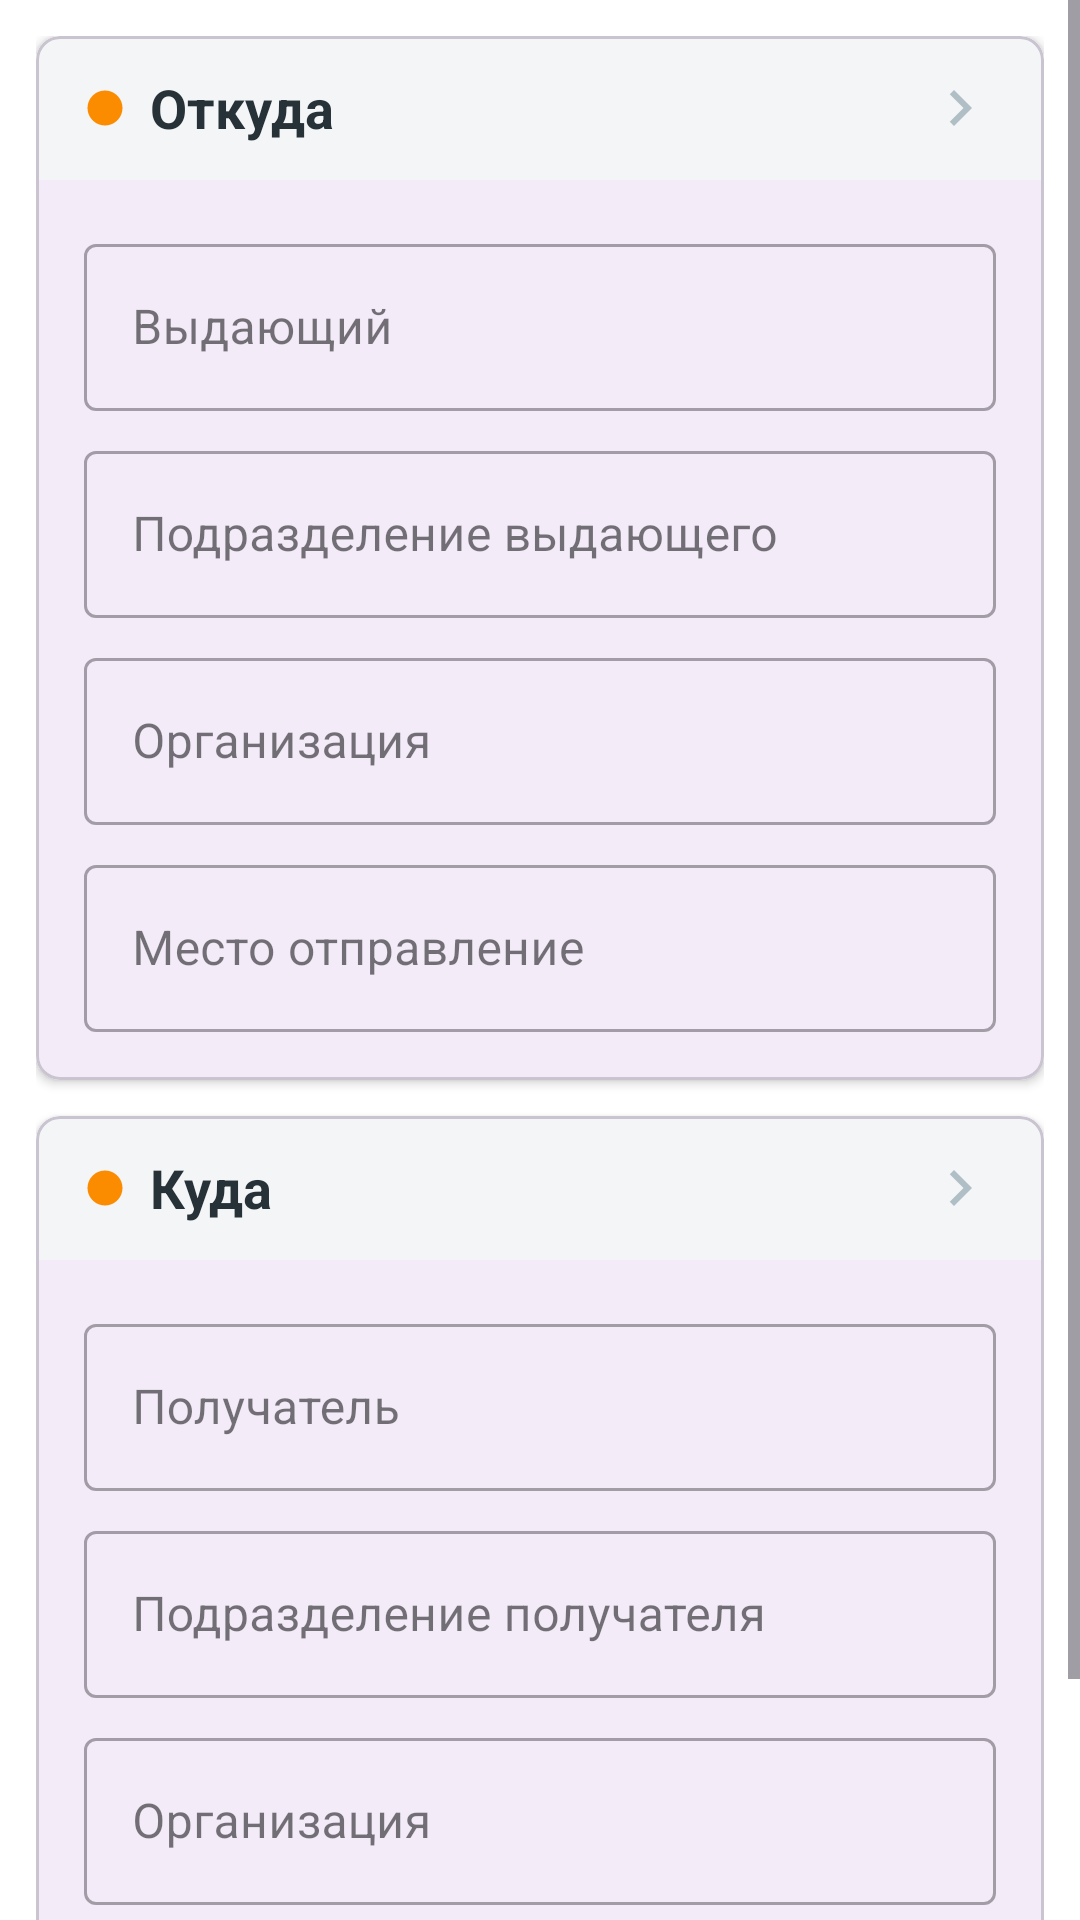

Locate icon controls on the screen. Image size 1080w x 1920h, boxes as (x1, y1, x2, y2).
chevron right: (950, 90, 972, 126), (950, 1170, 972, 1206)
